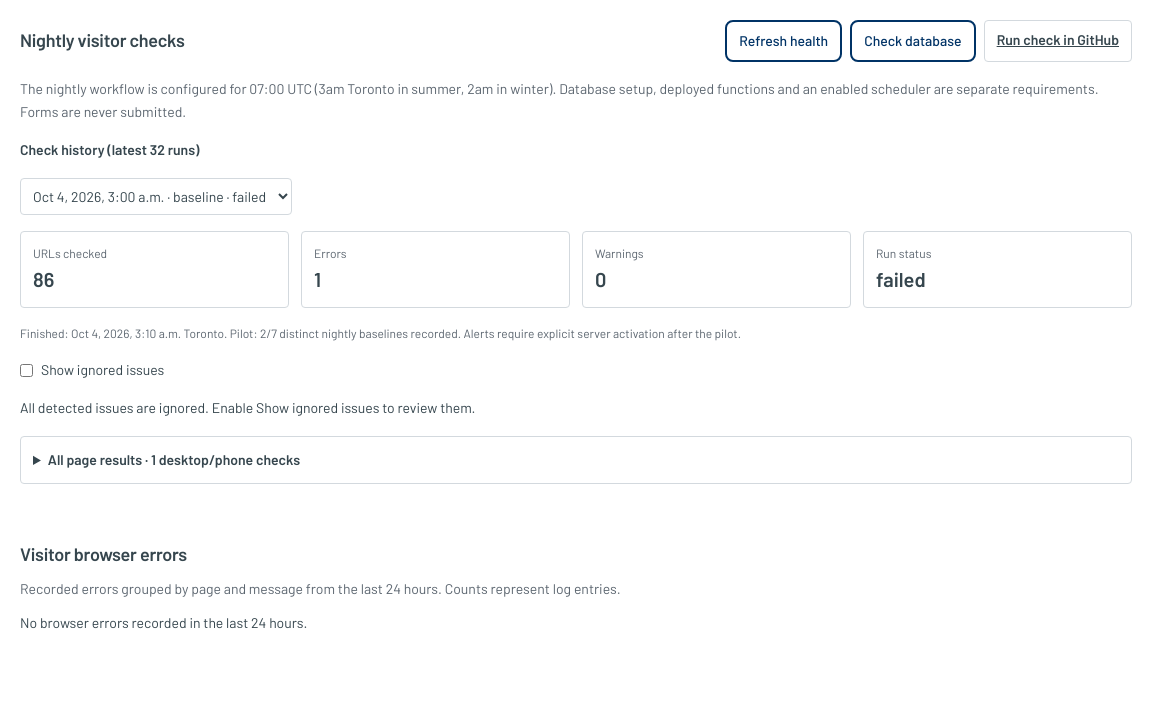
Scenario: honest Site Health workspace › lets the owner review ignored findings
Expected: the text "All detected issues are ignored" is shown, [20,399,475,416]
Click the checkbox labelled "Show ignored issues": (26, 370) [20,364,33,377]
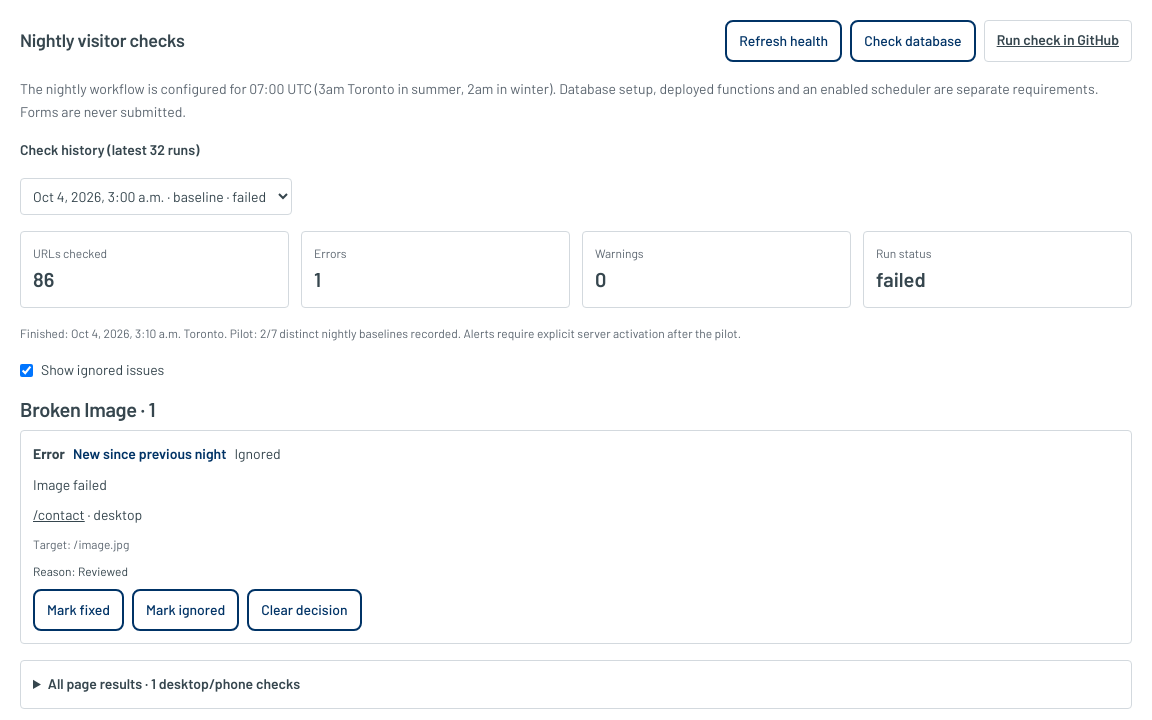
Expected: the text "Reason: Reviewed" is shown, [33,564,128,578]
